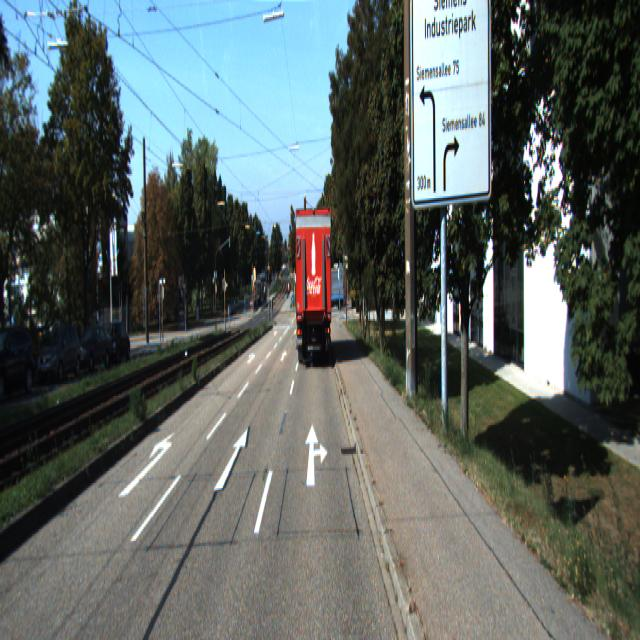Car: (36, 322, 82, 388), (0, 324, 37, 396), (75, 324, 113, 372), (101, 321, 131, 367)
Truck: (292, 207, 334, 372)
